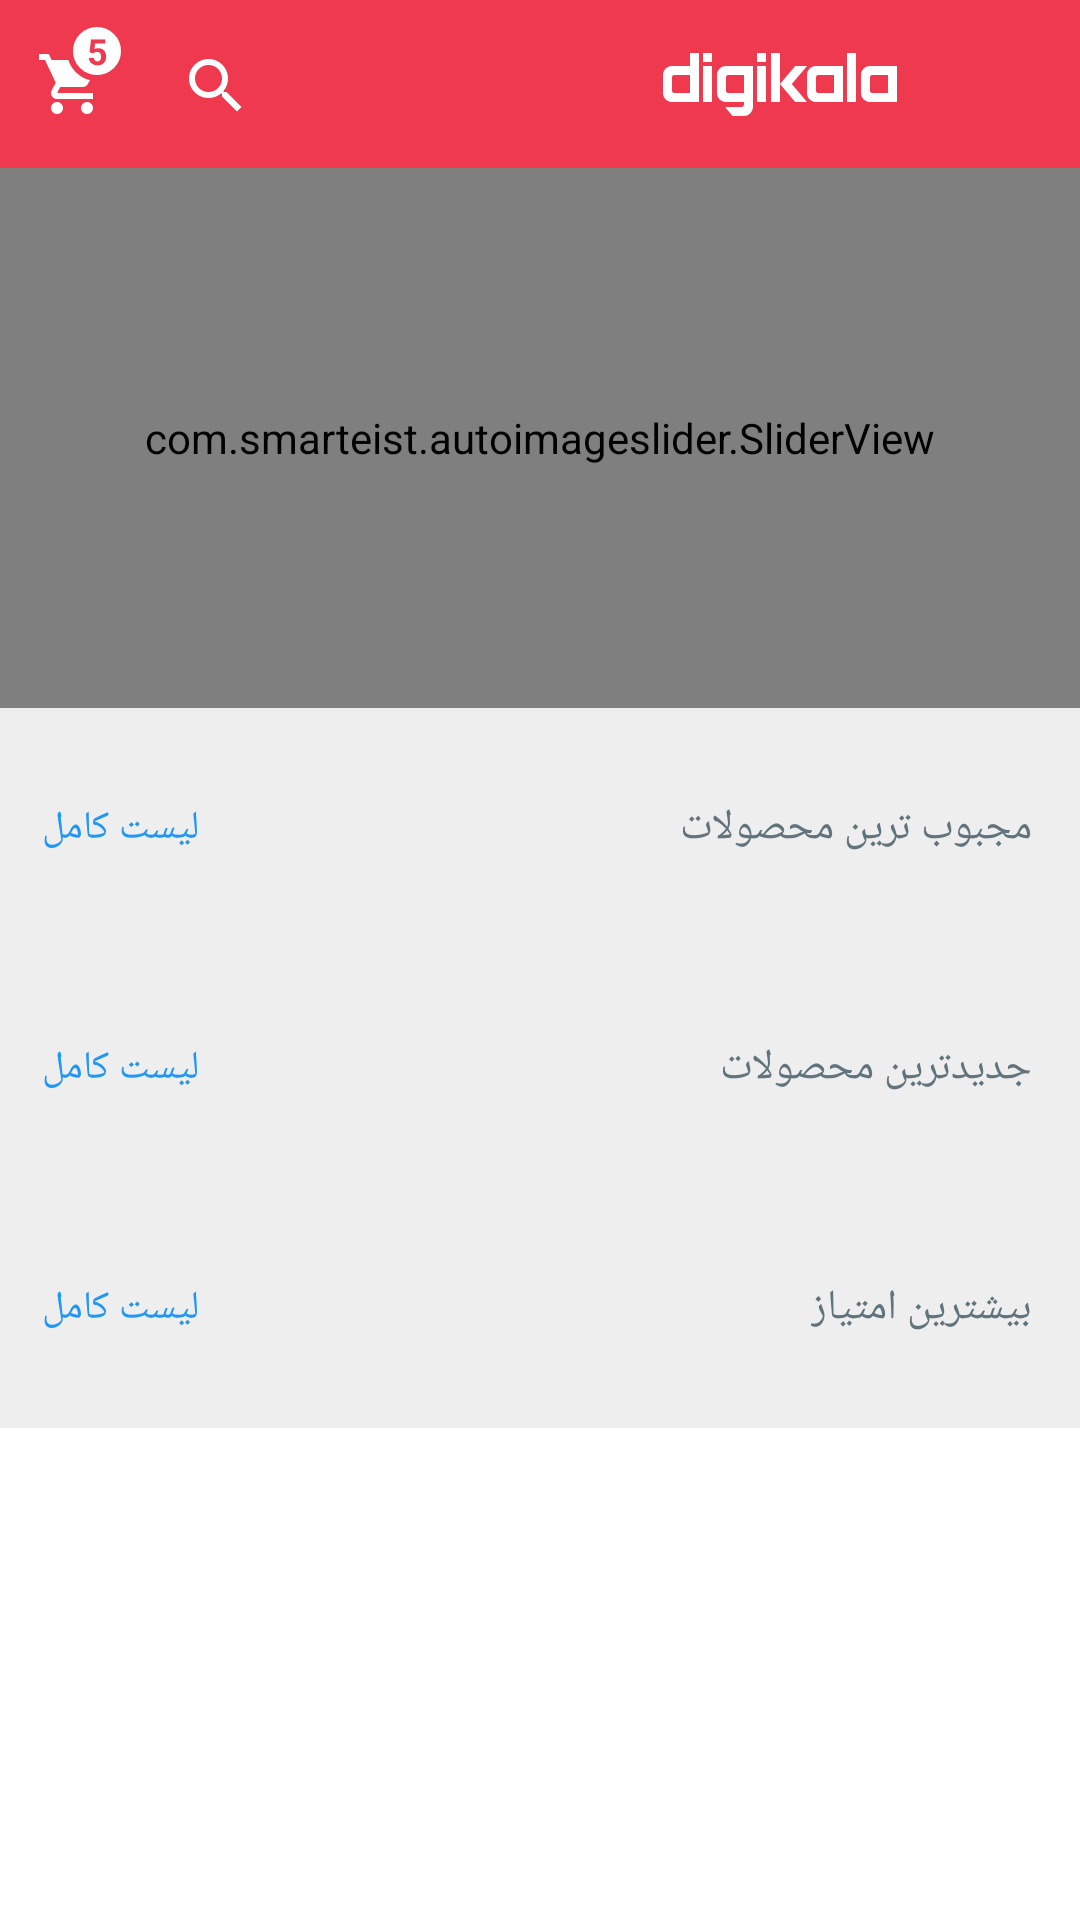

Locate icon controls on the screen. Image size 1080x1920, boxes as bbox=(x1, y1, x2, y2).
search: bbox=(189, 59, 241, 111)
shopping cart: bbox=(39, 27, 121, 114)
